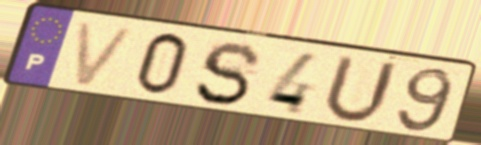0: (131, 30, 194, 102)
4: (260, 50, 322, 118)
9: (393, 65, 458, 134)
S: (191, 40, 266, 108)
U: (318, 52, 401, 126)
V: (72, 18, 141, 90)
